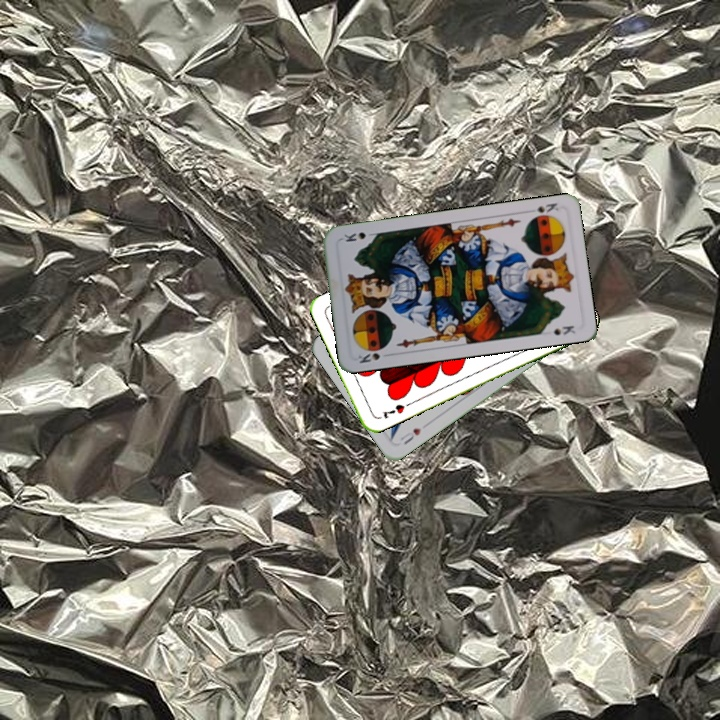H7: (379, 400, 407, 421)
HU: (396, 424, 424, 447)
SK: (353, 349, 394, 366), (523, 199, 561, 216)
